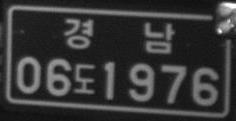0: (14, 55, 42, 95)
1: (98, 60, 122, 100)
6: (191, 65, 219, 108), (45, 56, 72, 98)
7: (160, 63, 187, 104)
9: (128, 60, 155, 104)
경남_D: (63, 16, 175, 56)
도: (73, 61, 96, 95)
